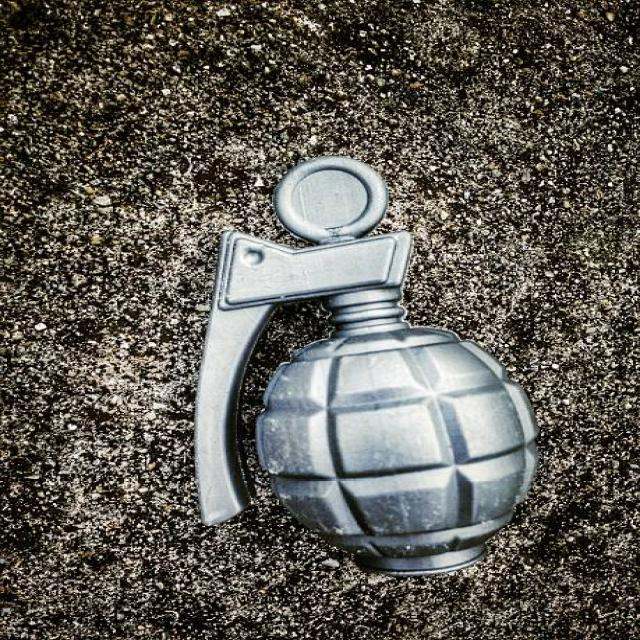grenade: (186, 159, 539, 587)
